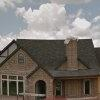Chimney: (61, 32, 83, 72)
